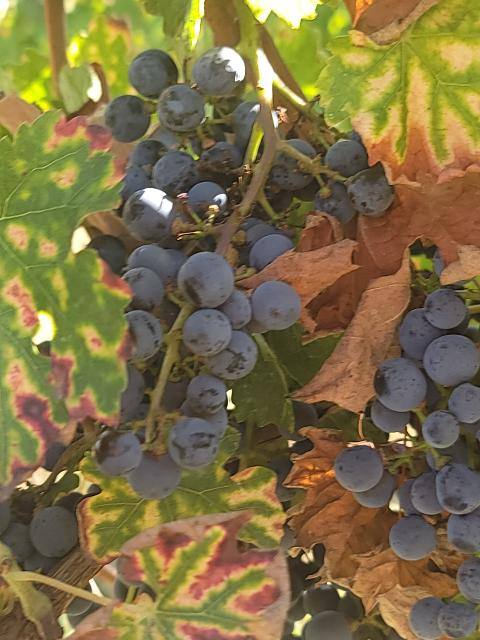grapes: (92, 46, 394, 499), (371, 288, 480, 640)
